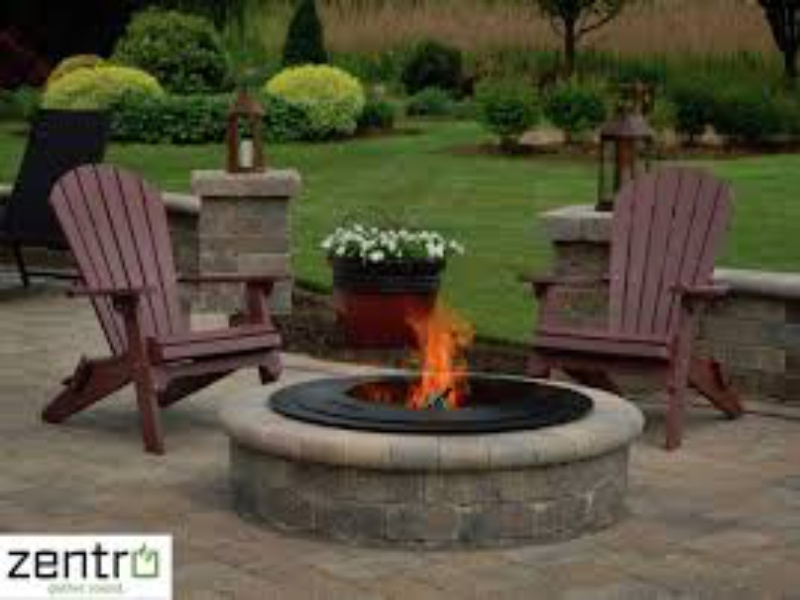fire: (404, 306, 471, 399)
